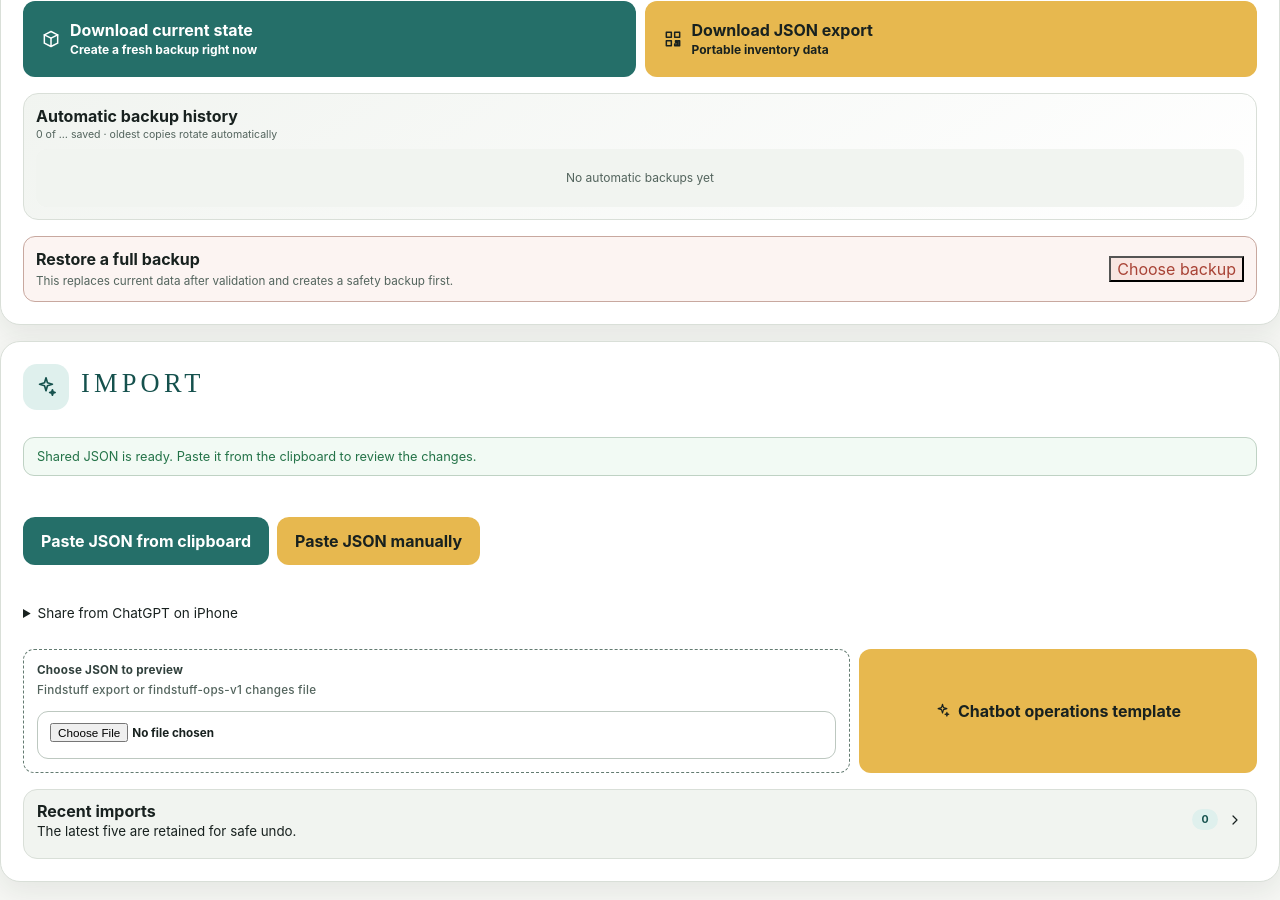
Scenario: shared JSON import › previews copied JSON in the existing review flow without applying it
The image size is (1280, 900).
(page scrolled)
Expected: the text "Shared JSON is ready. Paste it from the clipboard to review the changes." is shown, [23,437,1257,476]
Step 1. Click the button "Paste JSON from clipboard" → (146, 541), box [23,517,269,565]
(page scrolled)
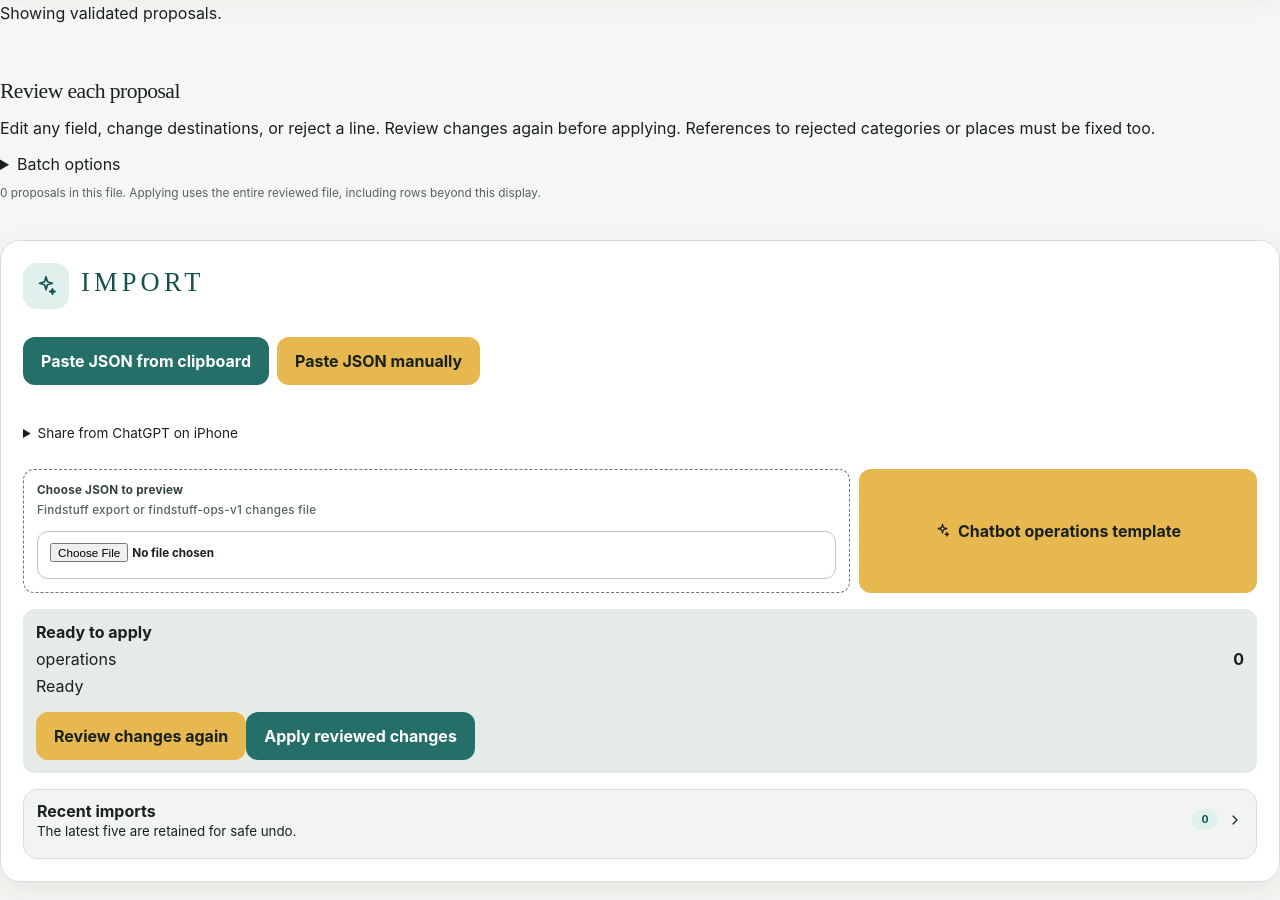
Expected: the text "Ready to apply" is shown, [36,622,152,642]
Expected: the button "Apply reviewed changes" is shown, [246,712,475,760]
